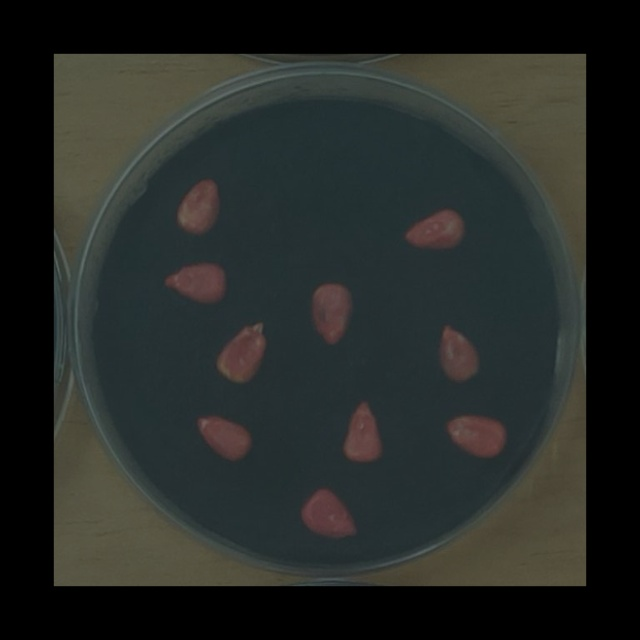Zea mays: (208, 315, 273, 390), (294, 481, 363, 547), (302, 275, 359, 353), (187, 409, 259, 470), (157, 255, 235, 310), (168, 171, 228, 242), (334, 394, 389, 471), (431, 316, 487, 390), (438, 409, 513, 464), (398, 203, 472, 257)
